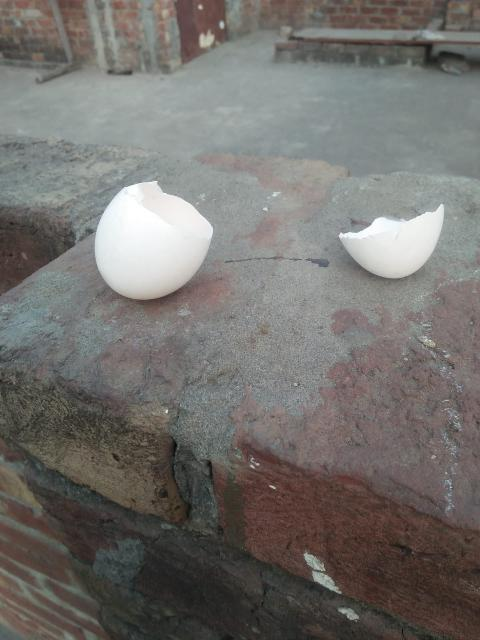Roto: (93, 180, 213, 301), (338, 202, 445, 279)
